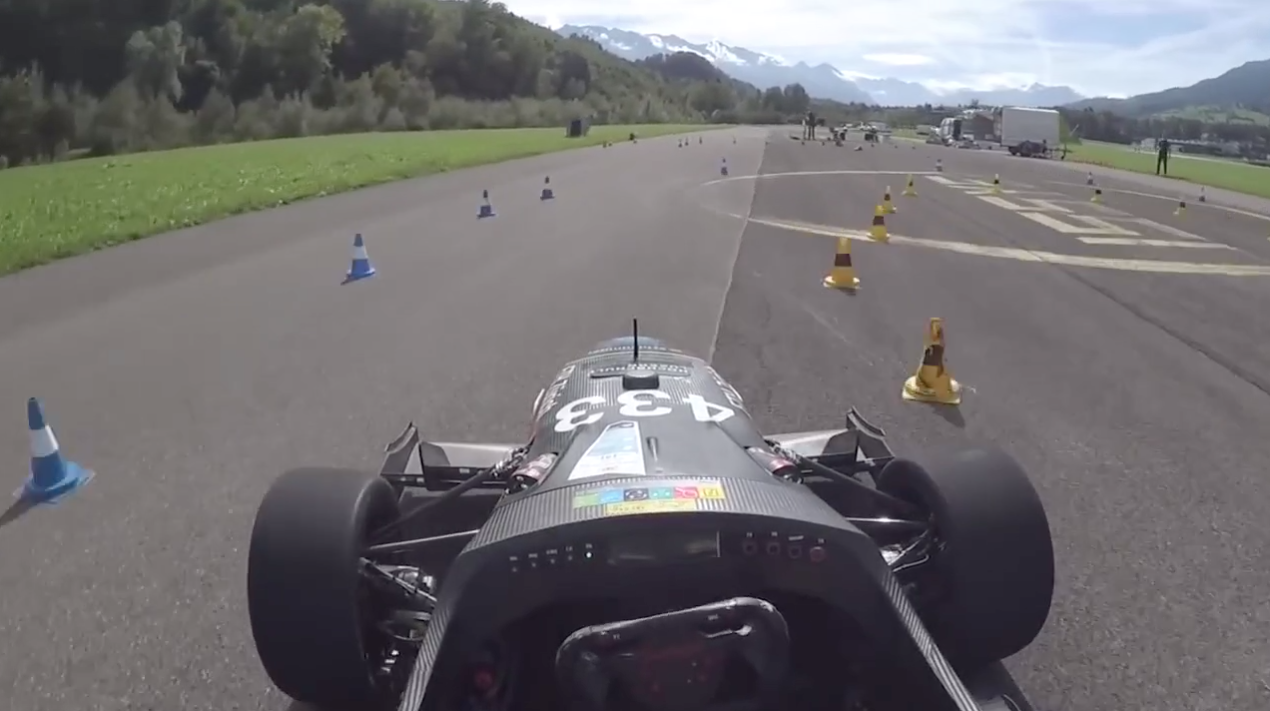lcone: (3, 393, 102, 514), (341, 228, 380, 282), (473, 185, 499, 220), (534, 171, 558, 200)
rcone: (894, 311, 971, 408), (819, 233, 866, 293), (864, 203, 893, 243)
